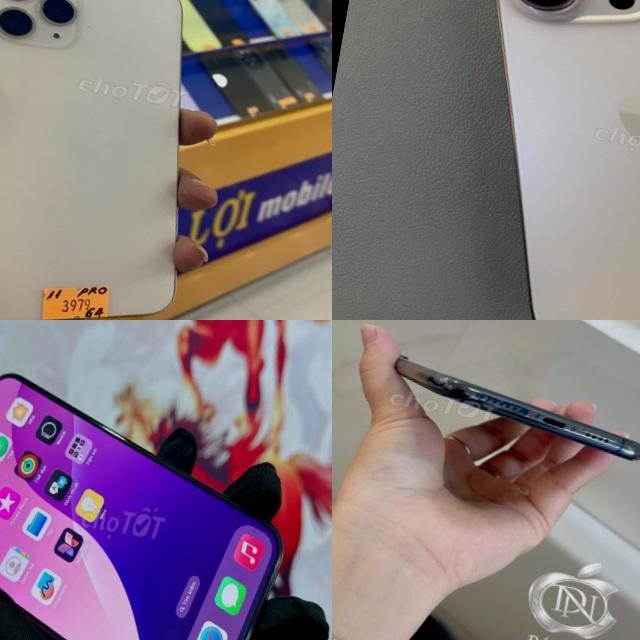gen_11: (0, 0, 181, 320)
gen_15: (0, 356, 308, 640)
gen_16: (496, 0, 640, 320)
gen_x_xs: (394, 356, 640, 459)
